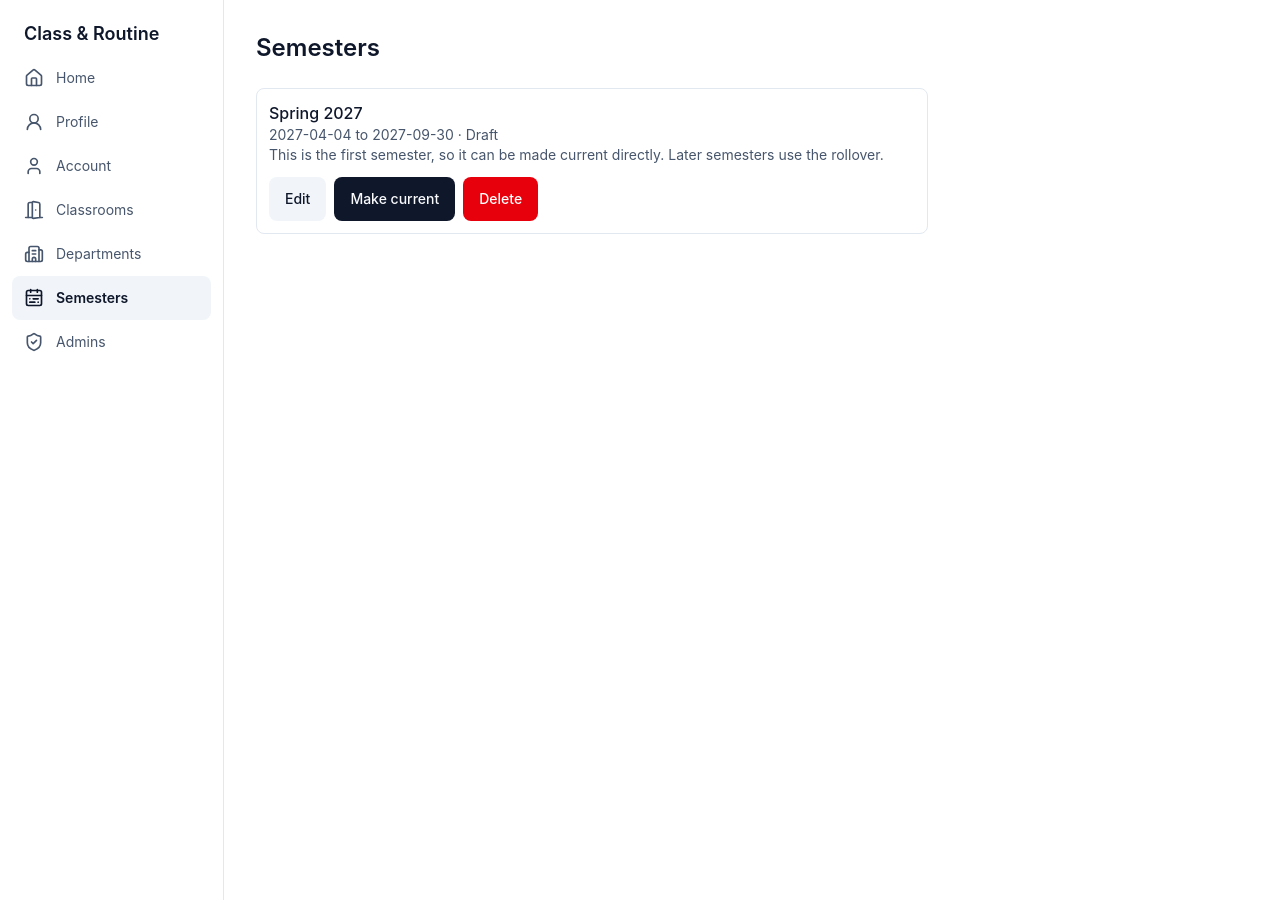
semesters screens (spec 04) › SEM-04 the server refusal to delete a draft in use is shown
This screenshot has width=1280, height=900.
Click the button "Delete".
click(501, 199)  # box [463, 177, 538, 221]
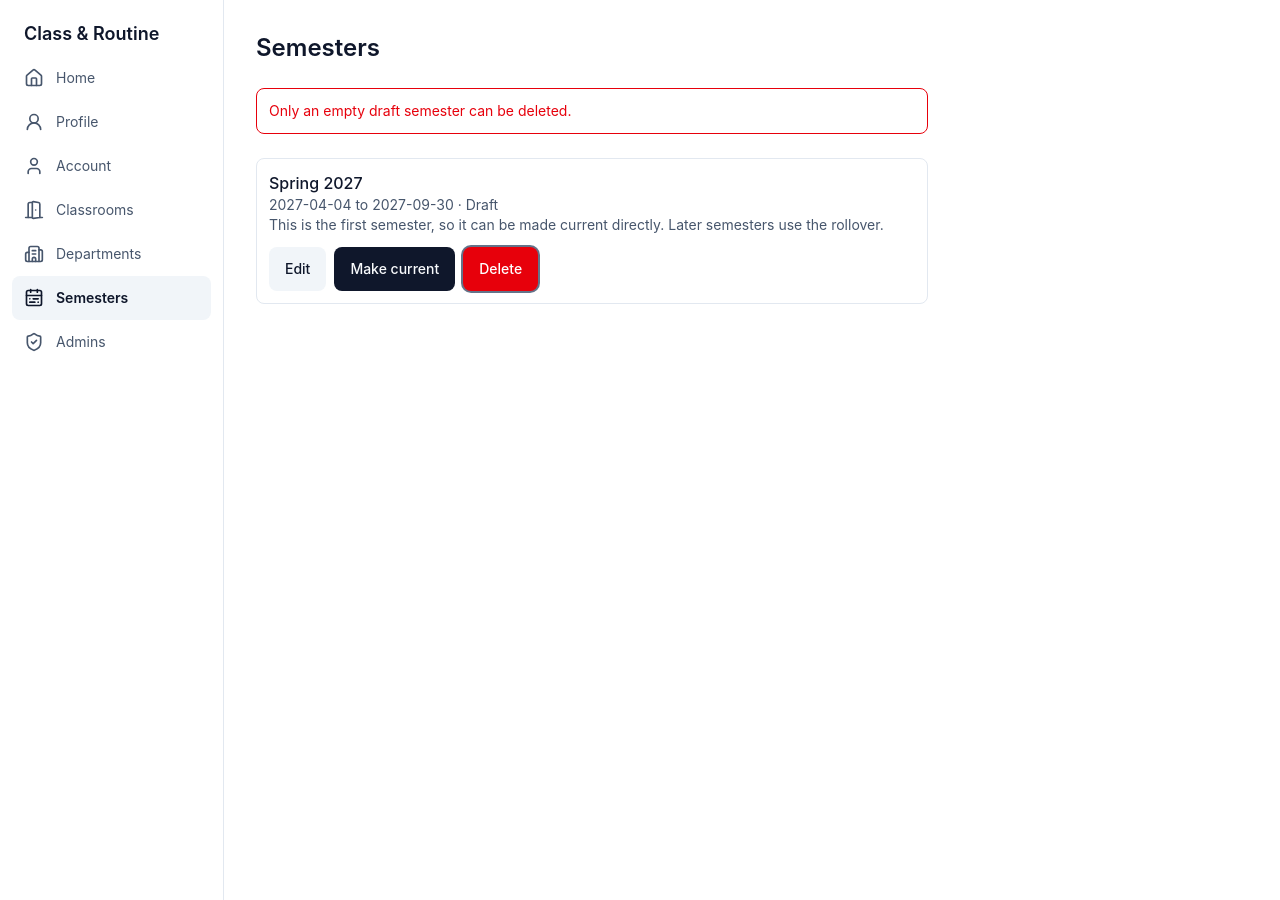
Expected: the text "Only an empty draft semester can be deleted." is shown, [256, 88, 928, 134]
